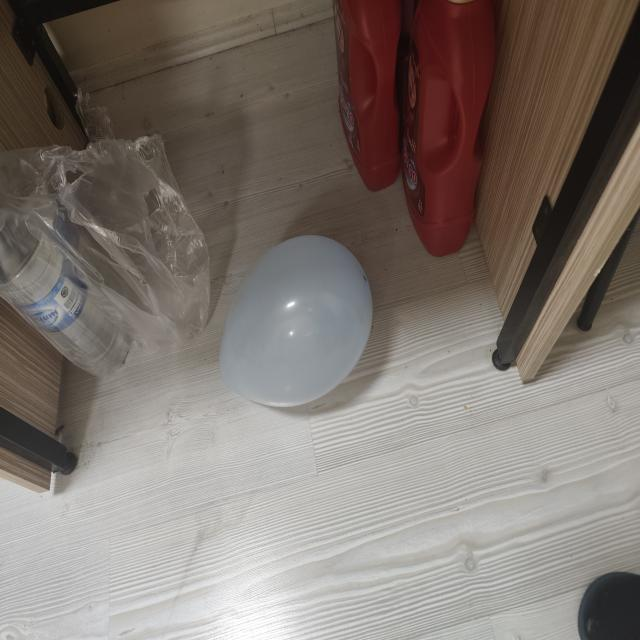balloon: (220, 236, 372, 407)
